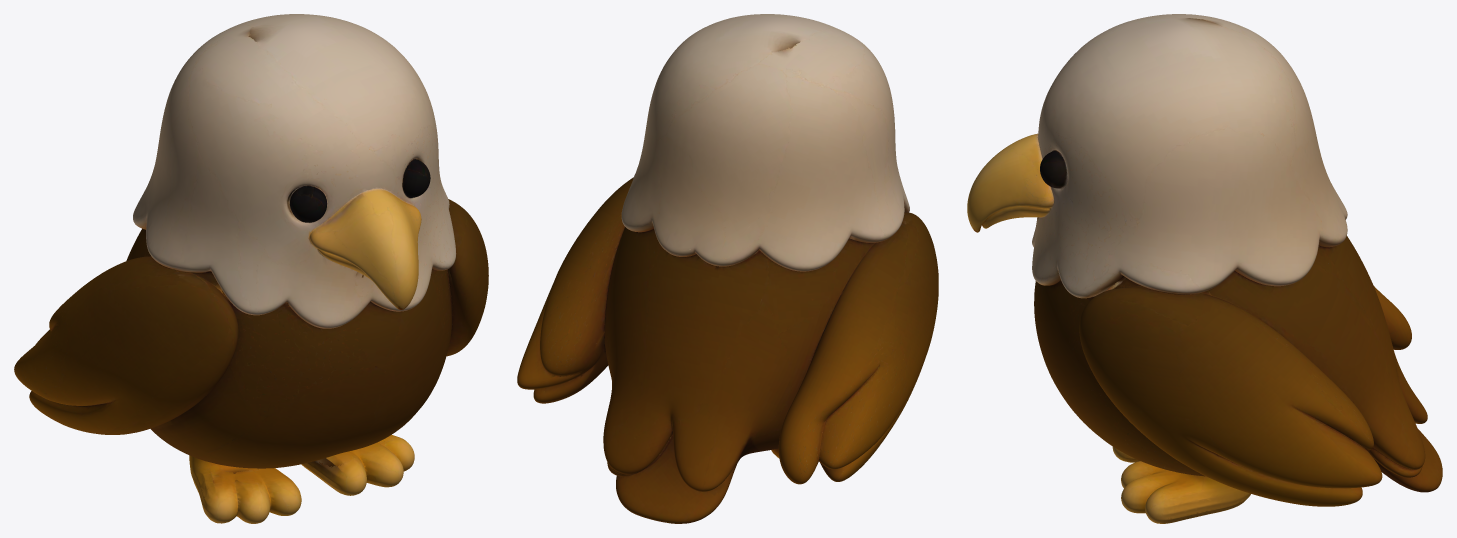
File: dai-bang-con.glb
3 renders of one model, left to right at view 1: azimuth 30°, elevation 25°; view 2: azimuth 150°, elevation 25°; view 3: azimuth 270°, elevation 25°, orthographic. The views are drawn at different scales.
Parts seen in each view (by area): view 1: texture_pbr_v128; view 2: texture_pbr_v128; view 3: texture_pbr_v128.
Part boxes in pixels (bbox=[...]): texture_pbr_v128: bbox=[14, 14, 488, 523]; texture_pbr_v128: bbox=[517, 14, 938, 523]; texture_pbr_v128: bbox=[967, 14, 1442, 523].
Bounding box in the file's own units: 0.7764 × 0.8722 × 0.8367.
1 material, 1 textured.
